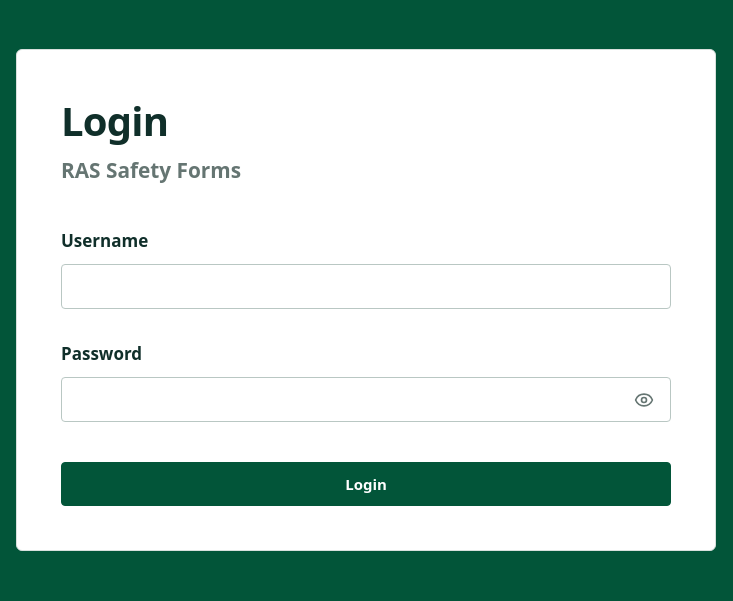
Test: LoginPage › tells deactivated users their account has been deactivated
Type "alex" into the field labelled "Username" at (366, 287), box [61, 264, 671, 309]
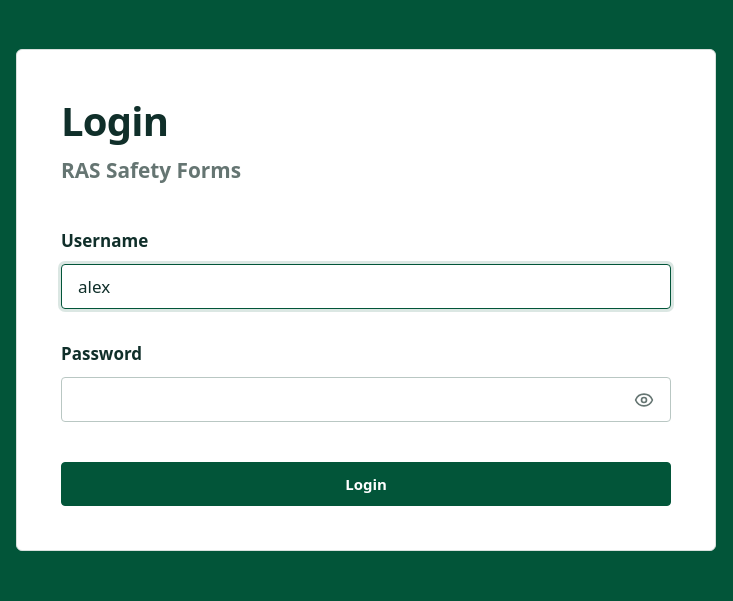
Type "secret-pass1!" into the password field labelled "Password" at (366, 400), box [61, 377, 671, 422]
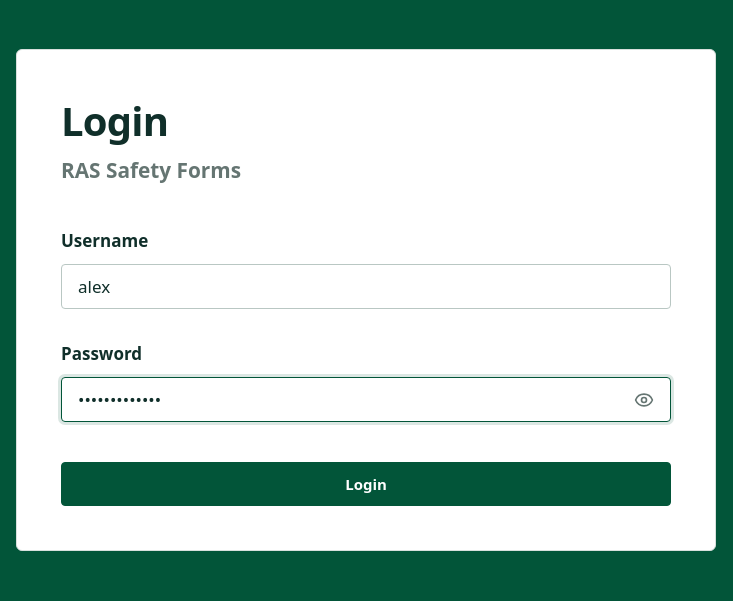
Click the button "Login" at (366, 484), box [61, 462, 671, 506]
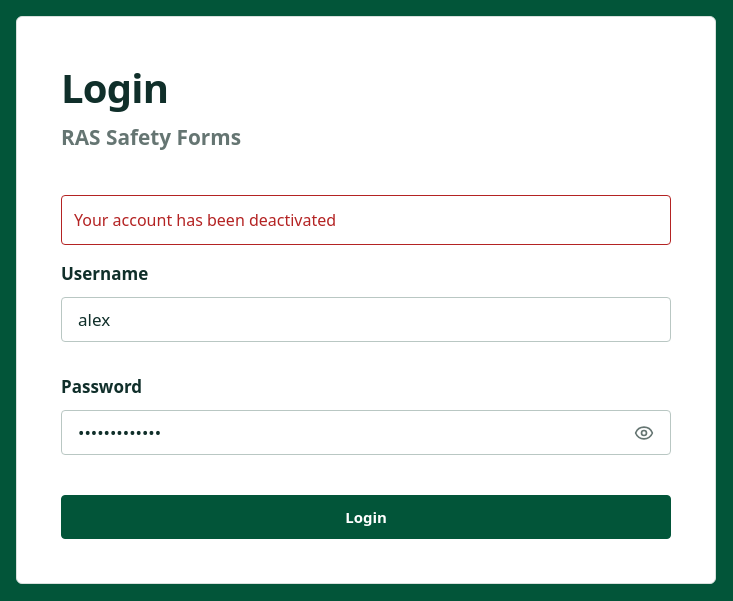
Check: the message reads "Your account has been deactivated", box [74, 209, 336, 231]
